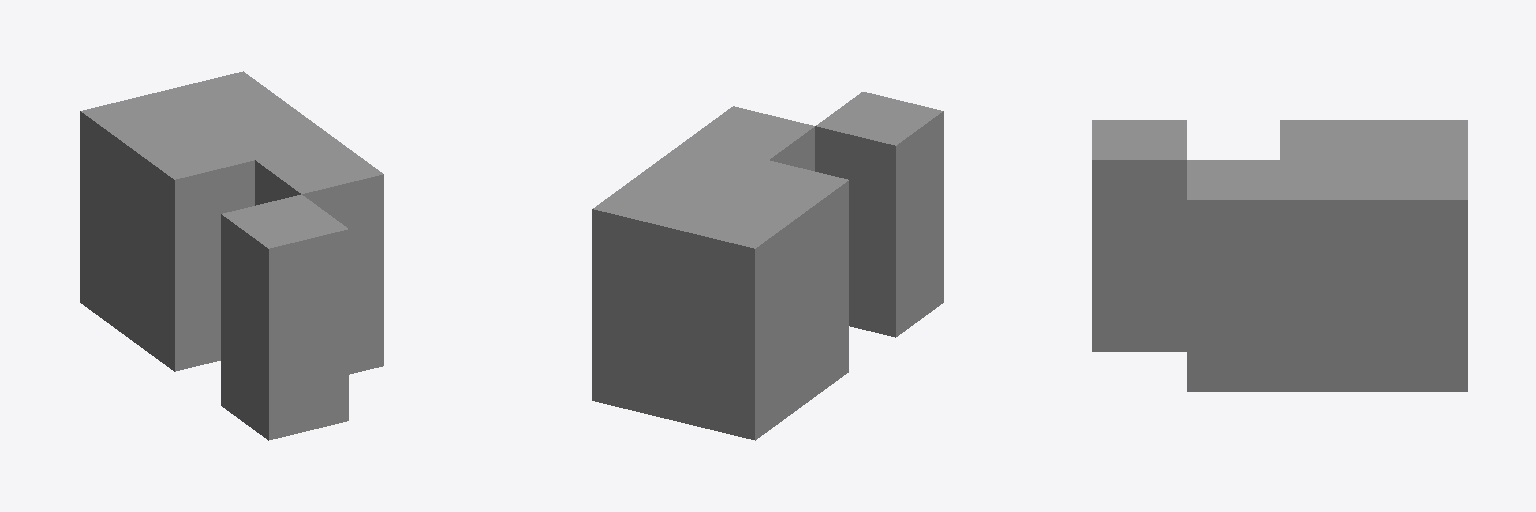
File: Comma.obj
The picture shows the model from 3 angles: view 1: azimuth 30°, elevation 25°; view 2: azimuth 150°, elevation 25°; view 3: azimuth 270°, elevation 25°; orthographic projection.
Parts seen in each view (by area): view 1: Comma_CUABC.049; view 2: Comma_CUABC.049; view 3: Comma_CUABC.049.
Part boxes in pixels (left/top/right/bottom): Comma_CUABC.049: left=80, top=71, right=383, bottom=440; Comma_CUABC.049: left=592, top=92, right=943, bottom=440; Comma_CUABC.049: left=1092, top=120, right=1467, bottom=391.
Bounding box in the file's own units: 0.2222 × 0.25 × 0.4444.